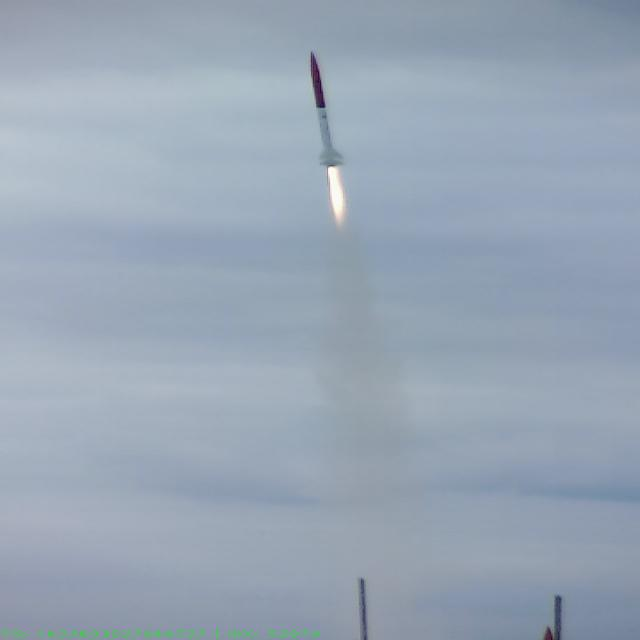Rocket: (308, 50, 346, 167), (542, 625, 556, 640)
